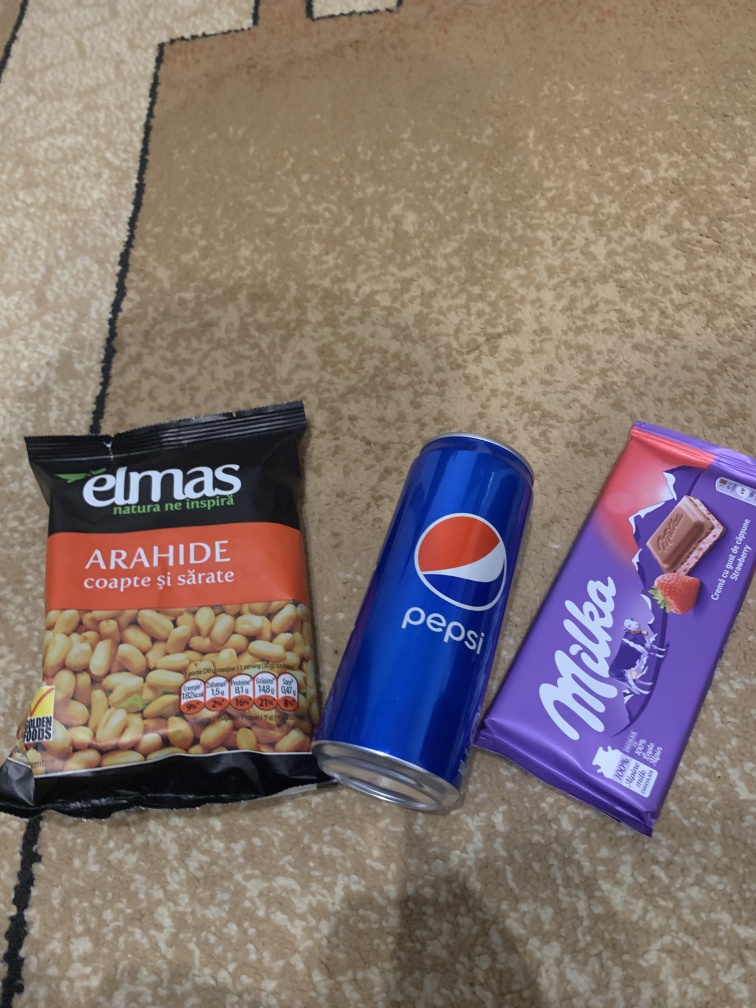milka: (475, 416, 756, 849)
peanuts: (17, 398, 344, 819)
pepsi: (316, 431, 537, 824)
